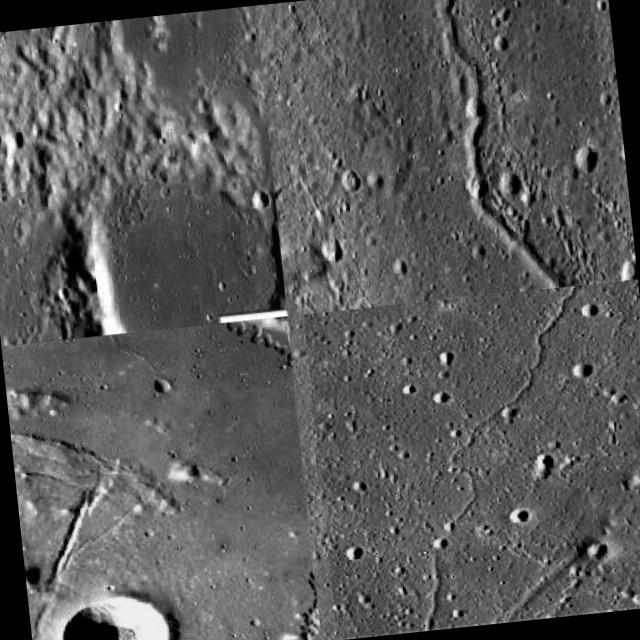rille: (304, 279, 640, 638), (0, 316, 319, 640), (380, 0, 620, 301), (16, 486, 125, 640)
